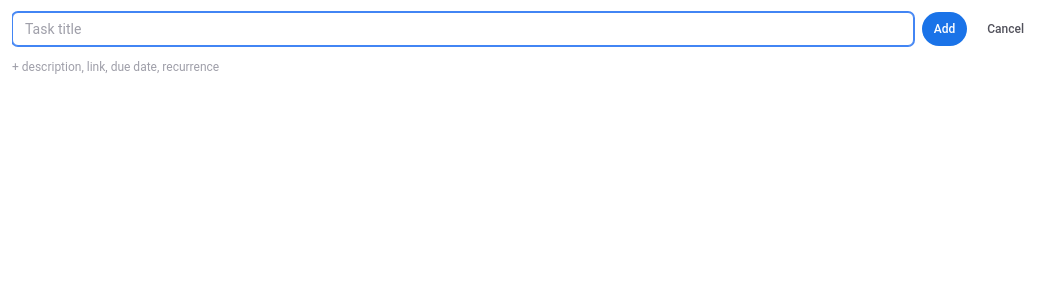
Test case: InlineTaskForm › shows recurrence fields when Recurring is checked
Step 1. Click the button "+ description, link, due date, recurrence" → (116, 67), box x1=12 y1=59 x2=219 y2=75
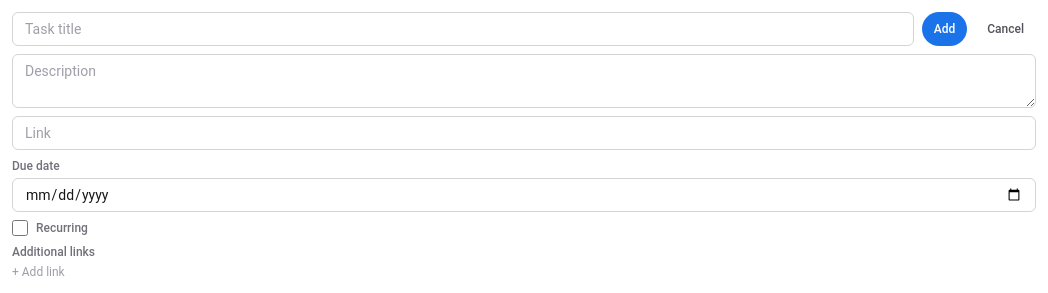
Step 2. Click the checkbox labelled "Recurring" → (20, 228), box x1=12 y1=220 x2=28 y2=236
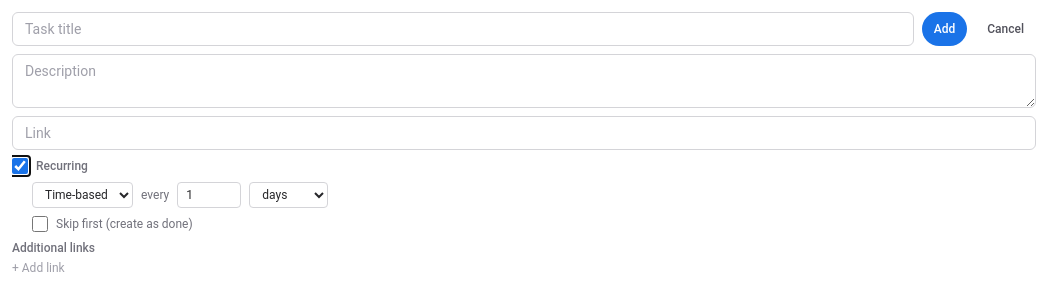
expect the 2nd dropdown showing "days" is shown: met, box x1=249 y1=182 x2=328 y2=208
expect the label labelled "Due date" is gone: met
